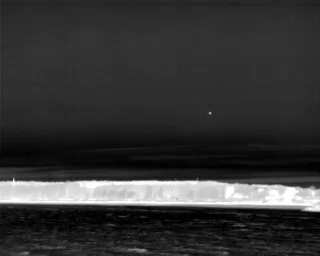HELICOPTER: (206, 109, 214, 118)
